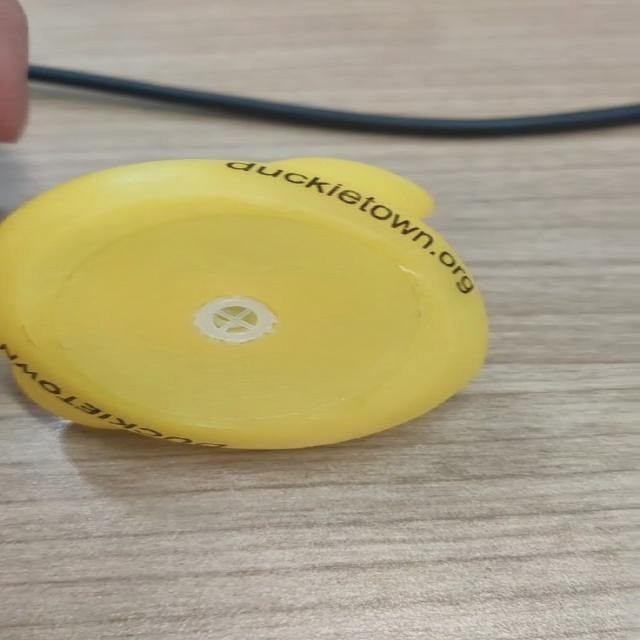rubber-duck: (0, 156, 486, 446)
